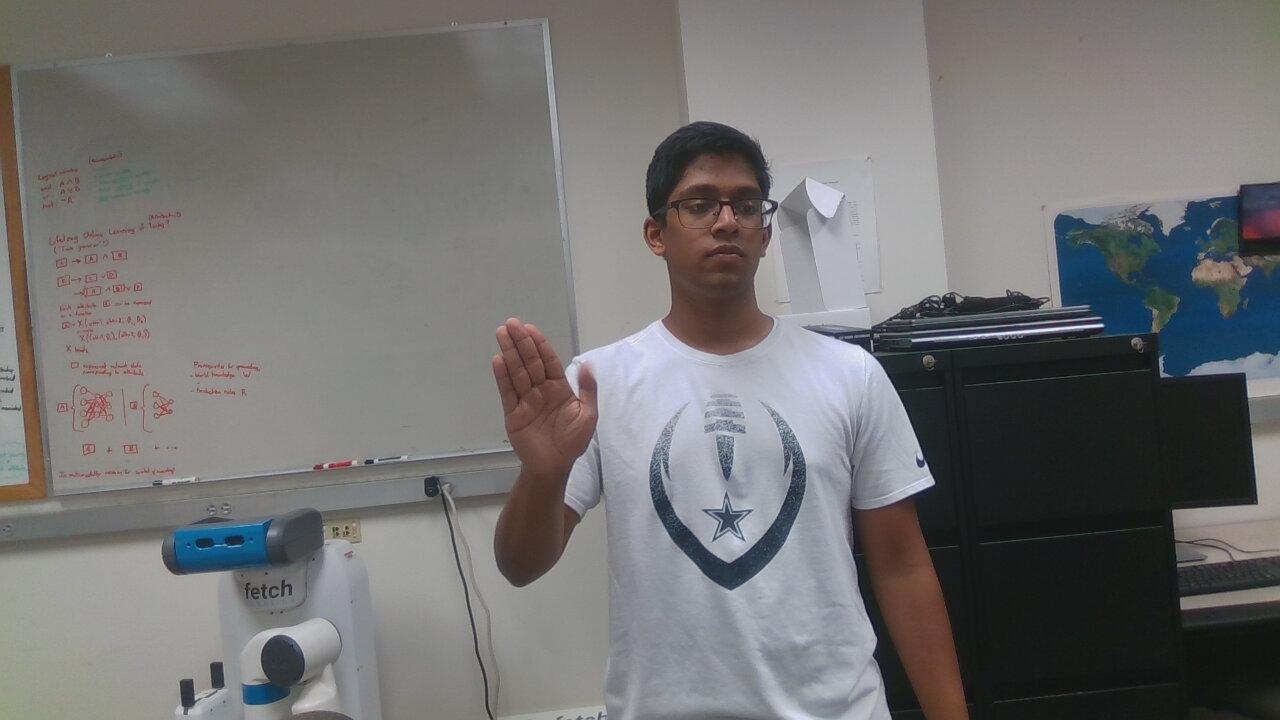hands: (454, 304, 638, 489)
